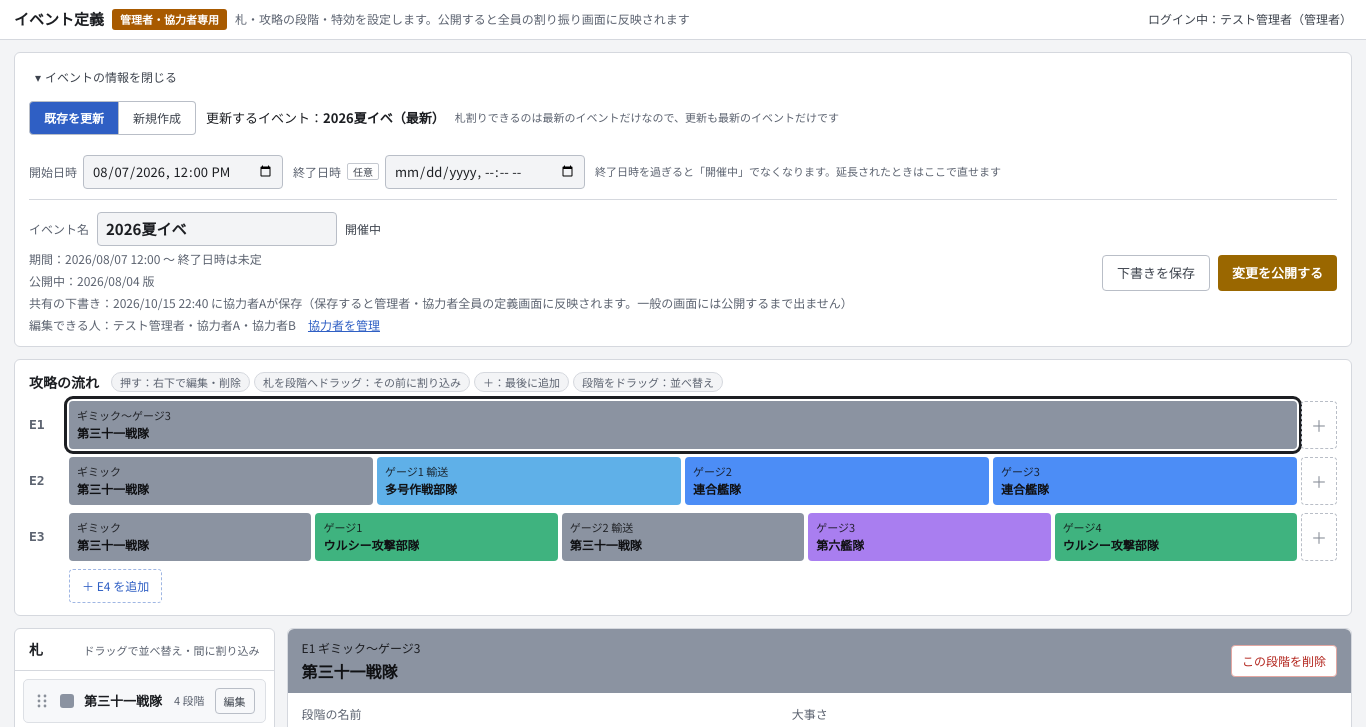
イベント定義の画面（PlanEditor）：保存時の衝突の確認（同時編集） › 違う所を変えていたとき（衝突なし）：自動で合わせて保存し直す › 相手だけが変えた段階（E3 ゲージ4）に「協力者Bが変更」の印を付け、保存した後も残す（自分だけが変えた段階には付けない）
The width and height of the screenshot is (1366, 727).
Expected: the element "攻略の流れ" is shown, [14,358,1352,616]
Click the button "ゲージ3 連合艦隊" at (1020, 470), box [993,456,1297,504]
(page scrolled)
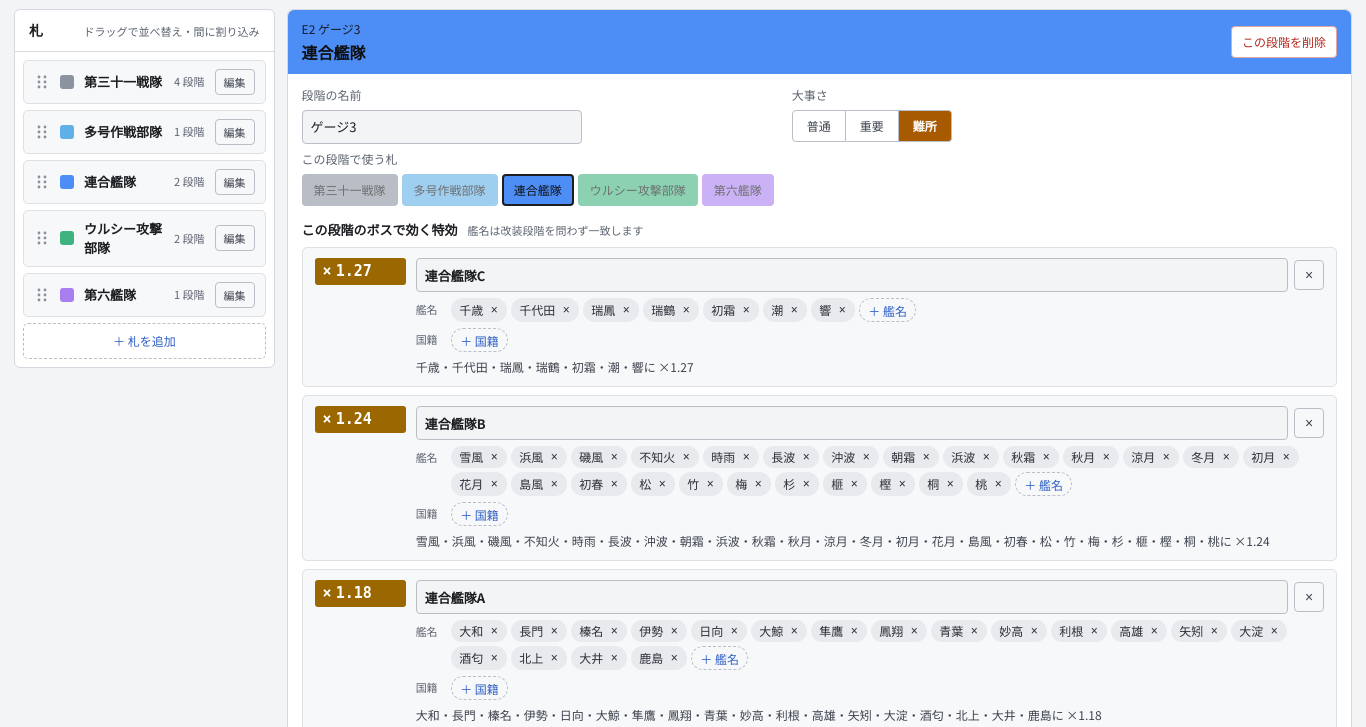
Click the button "重要" at (872, 126), box [846,110,899,142]
(page scrolled)
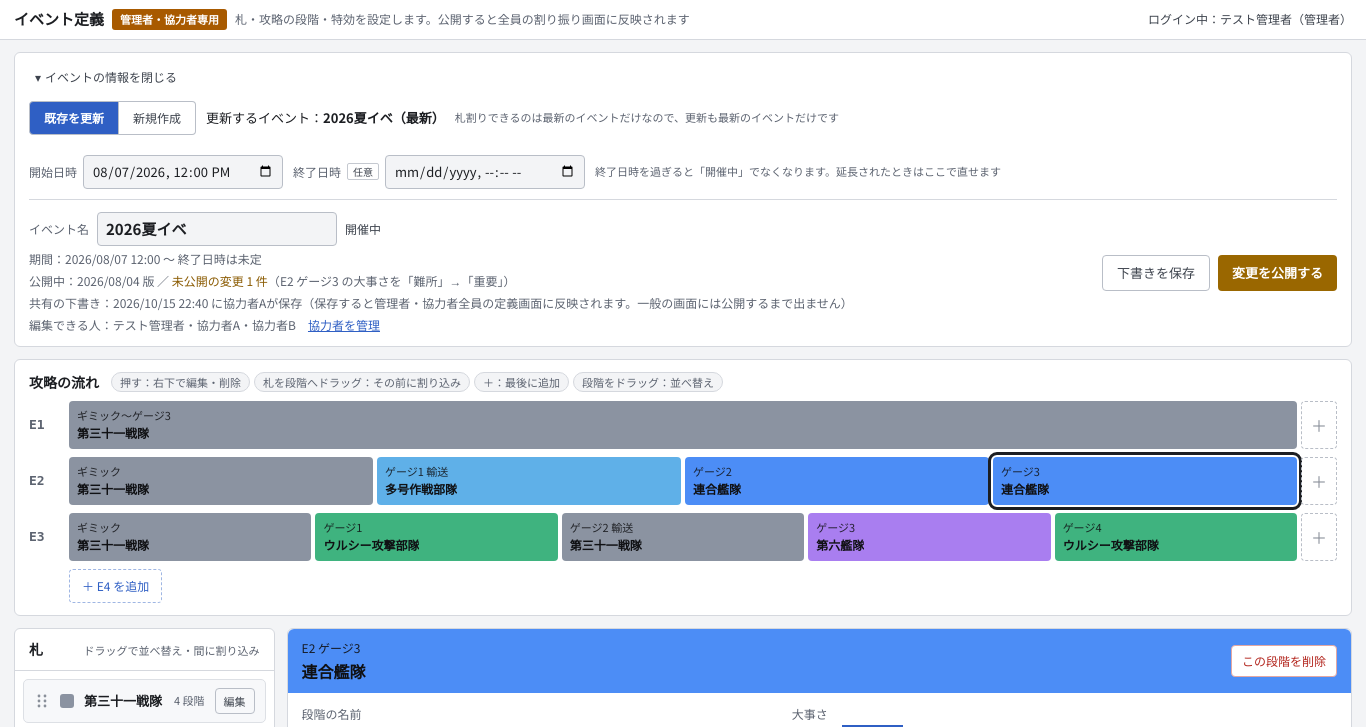
Click the button "下書きを保存" at (1156, 272), box [1102,254,1210,290]
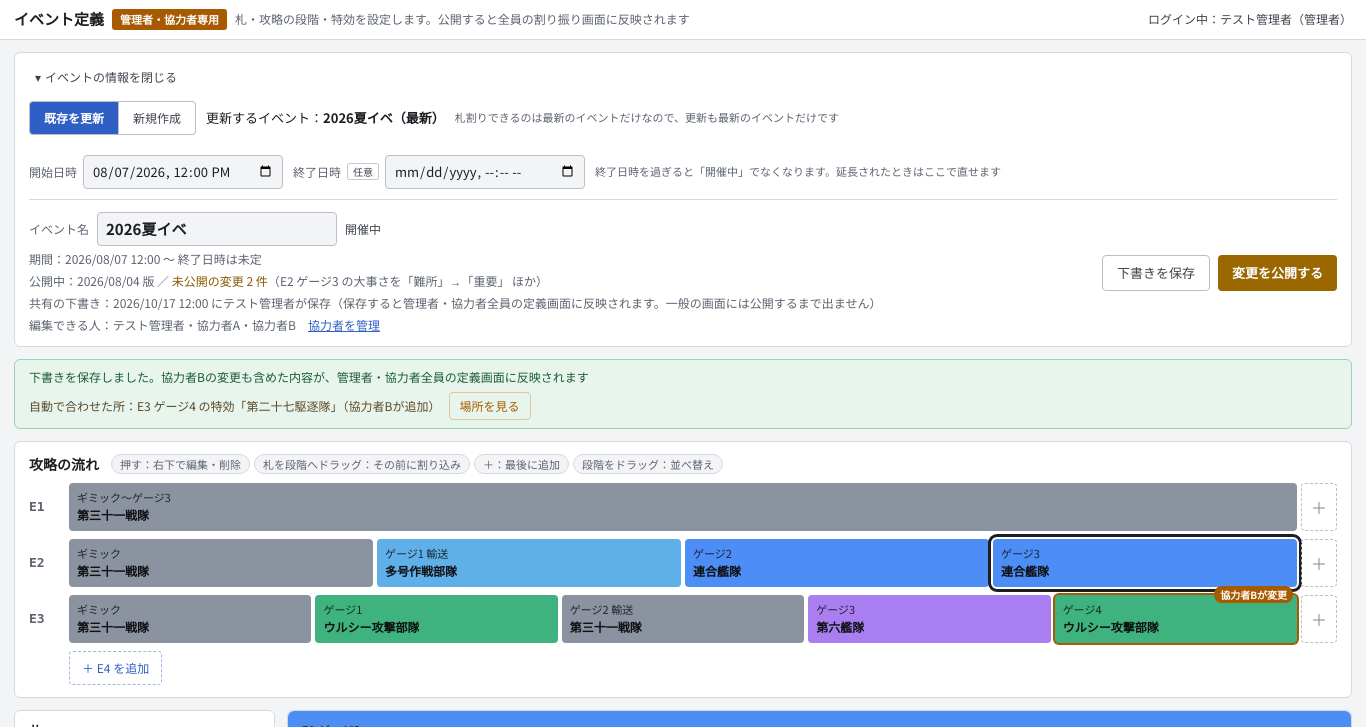
Expected: the text "協力者Bが変更" is shown, [1214,586,1293,602]
